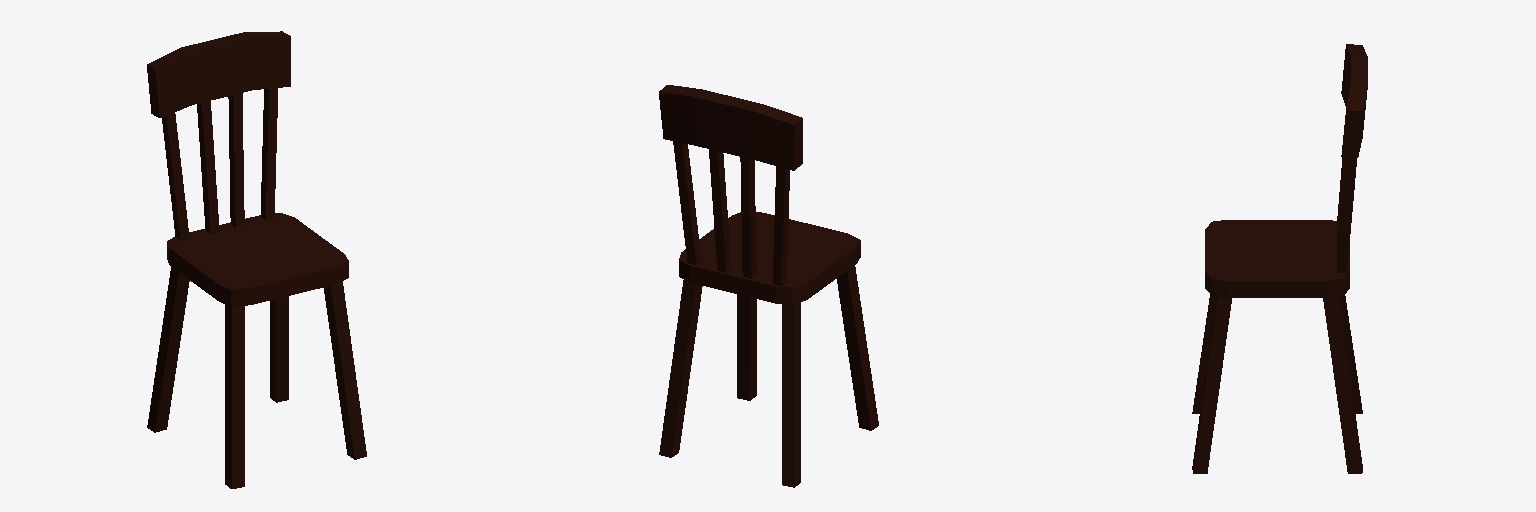
Rendered from Wooden_chair_01.obj.
3 views of the same model, side by side, from view 1: azimuth 30°, elevation 25°; view 2: azimuth 150°, elevation 25°; view 3: azimuth 270°, elevation 25° (orthographic).
Parts seen in each view (by area): view 1: Wooden_chair_01_Cube.035; view 2: Wooden_chair_01_Cube.035; view 3: Wooden_chair_01_Cube.035.
Boxes of the visible parts, <box> form: Wooden_chair_01_Cube.035: <box>147,31,366,488</box>; Wooden_chair_01_Cube.035: <box>659,85,878,487</box>; Wooden_chair_01_Cube.035: <box>1192,44,1367,473</box>.
Bounding box in the file's own units: 8.4 × 21.88 × 9.39.